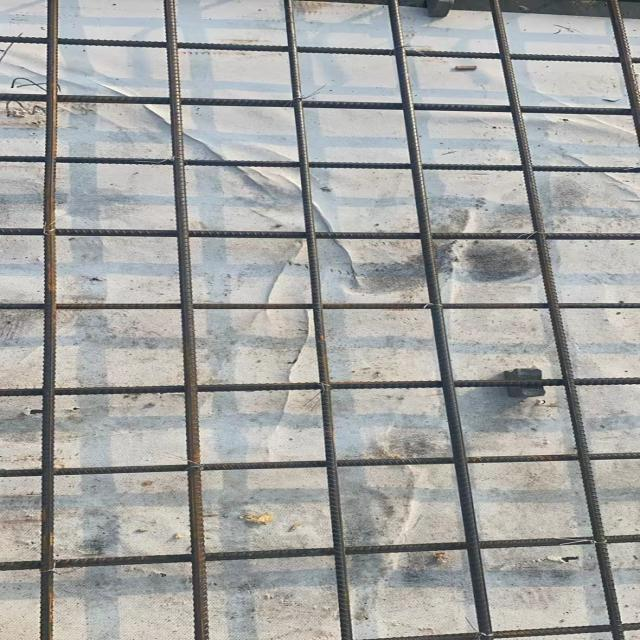ribbed bar: (488, 0, 626, 639), (386, 0, 494, 639), (283, 0, 354, 639), (161, 0, 209, 639), (0, 534, 638, 571), (0, 35, 638, 63), (0, 93, 630, 117), (0, 452, 638, 475), (38, 0, 59, 639), (0, 154, 638, 175), (0, 375, 638, 396), (0, 227, 638, 241), (0, 300, 638, 309), (606, 0, 639, 146), (353, 623, 638, 639)
